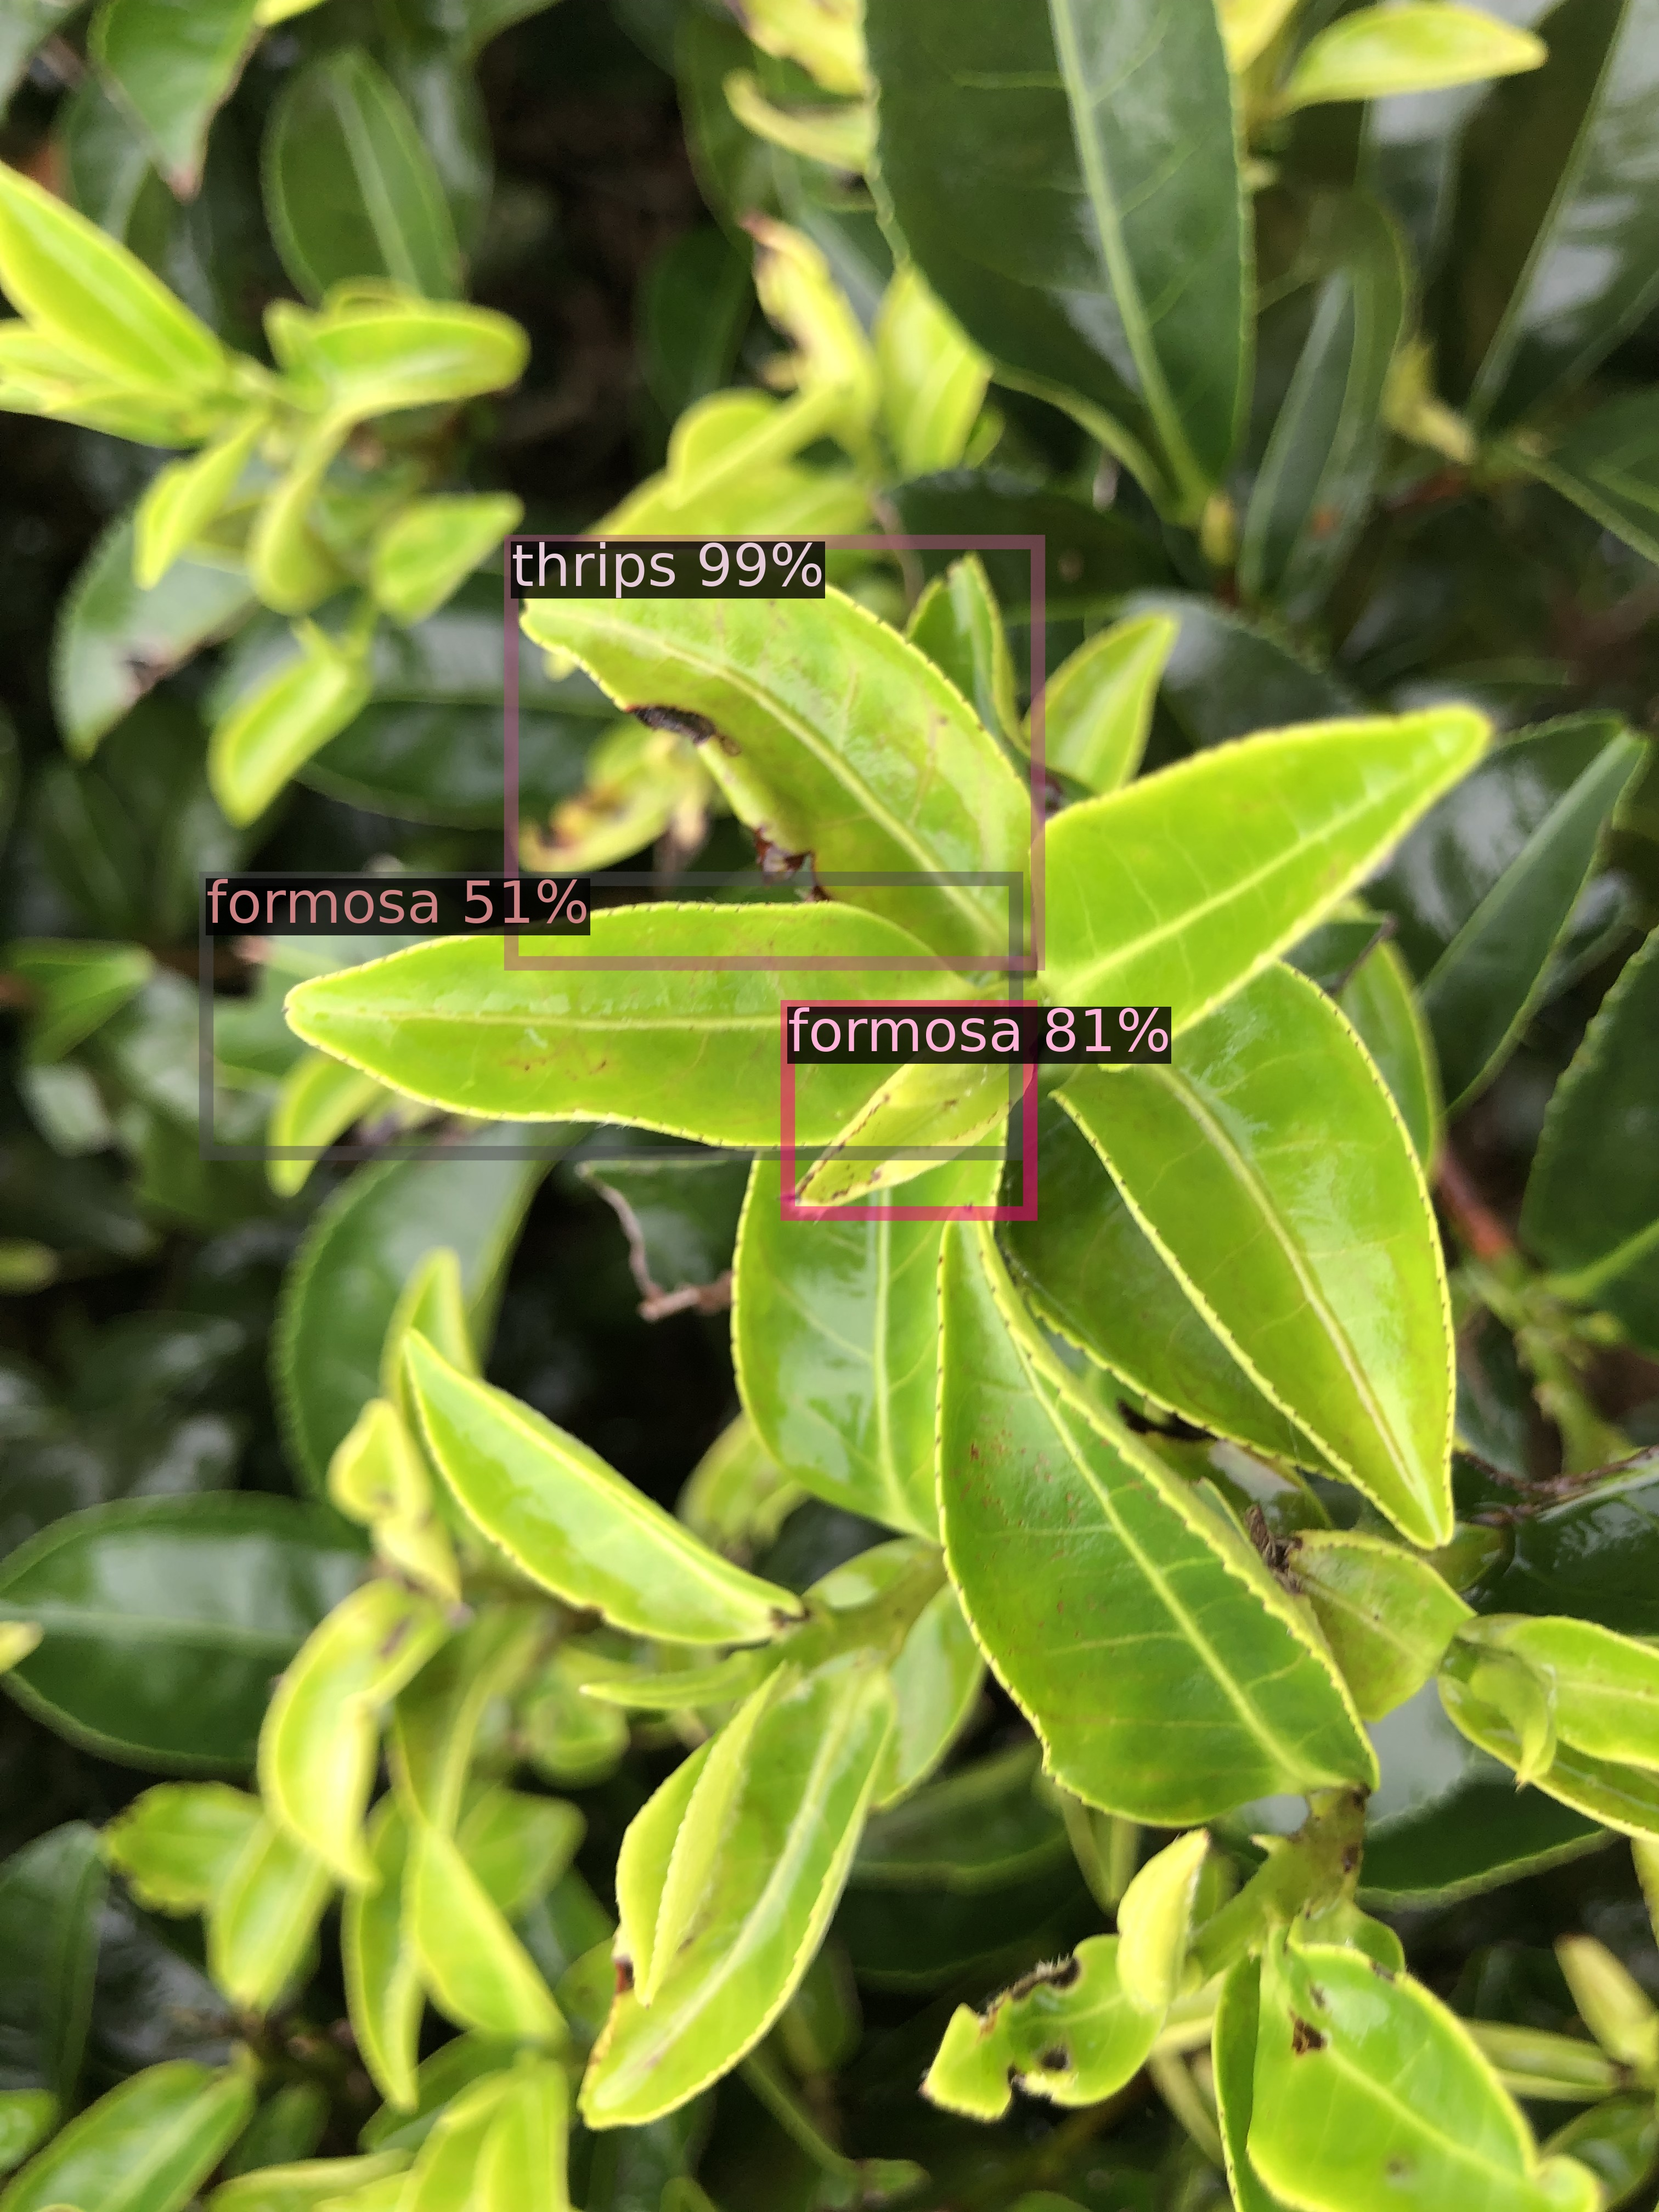formosa: (206, 878, 1016, 1153), (788, 1007, 1030, 1214)
thrips: (511, 542, 1037, 963)
